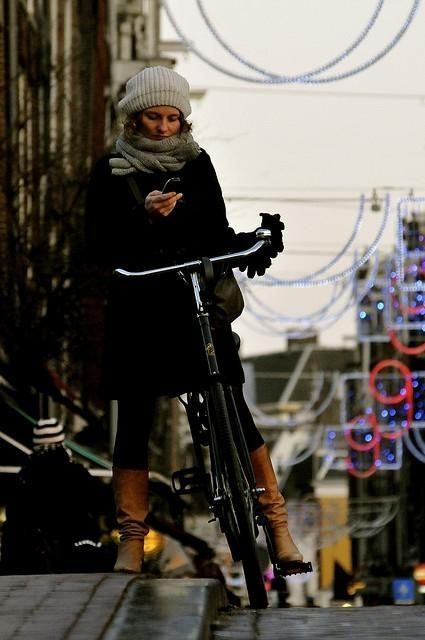bicycle: (108, 222, 314, 604)
